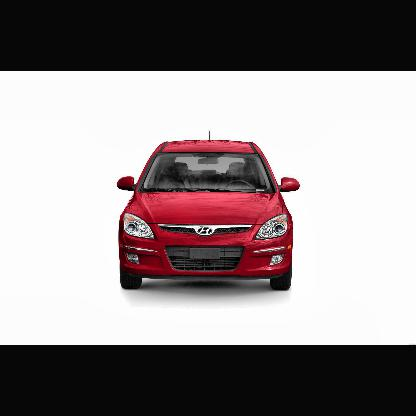Hyundai Elantra Touring Hatchback 2012: (119, 132, 302, 298)
